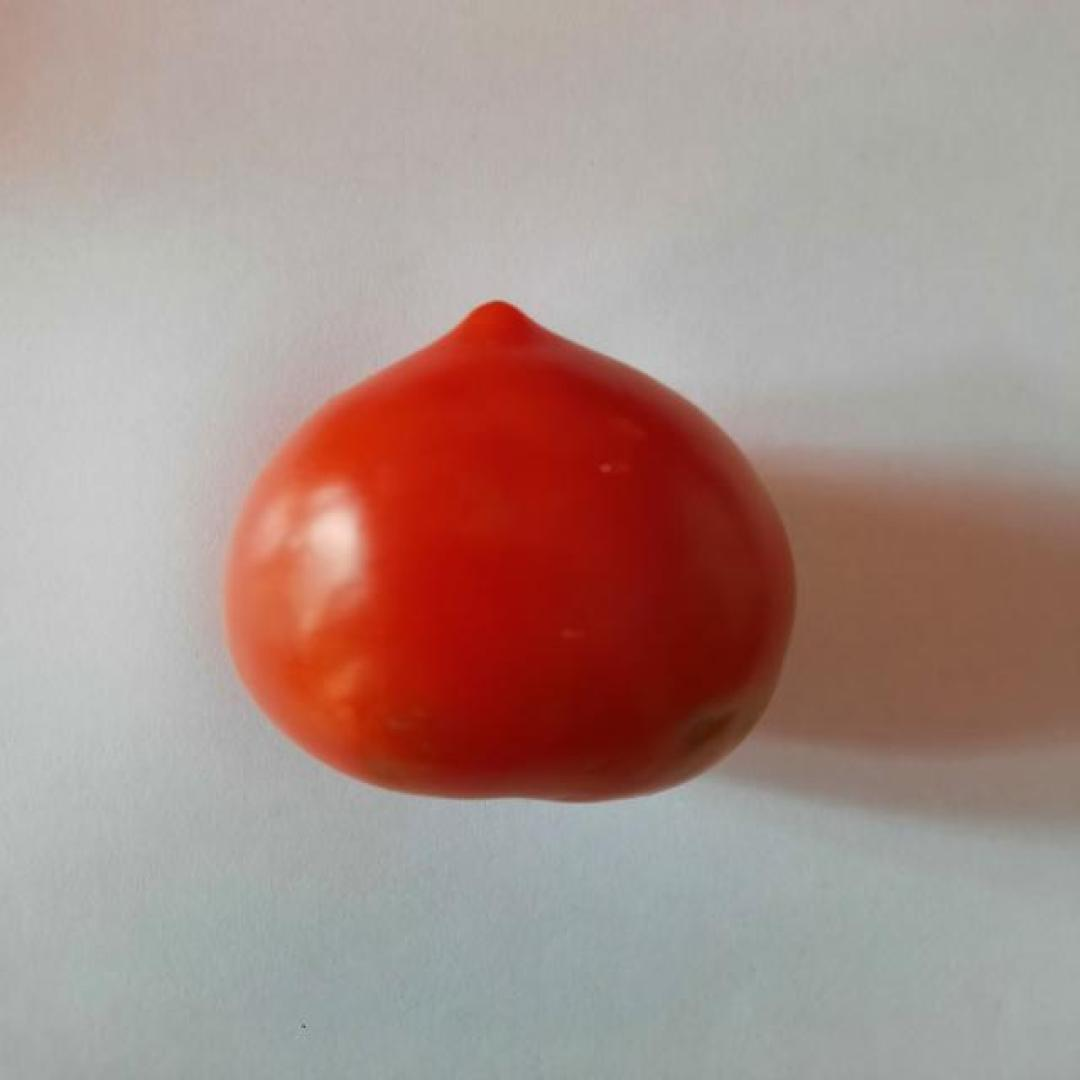matang: (218, 300, 802, 810)
